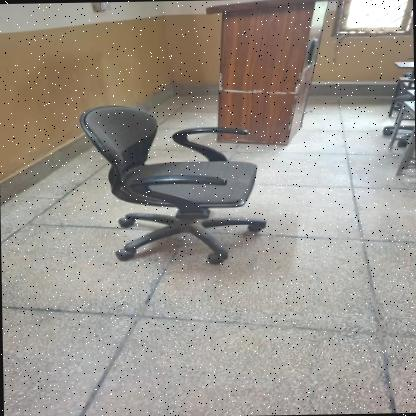chair: (74, 98, 272, 272)
